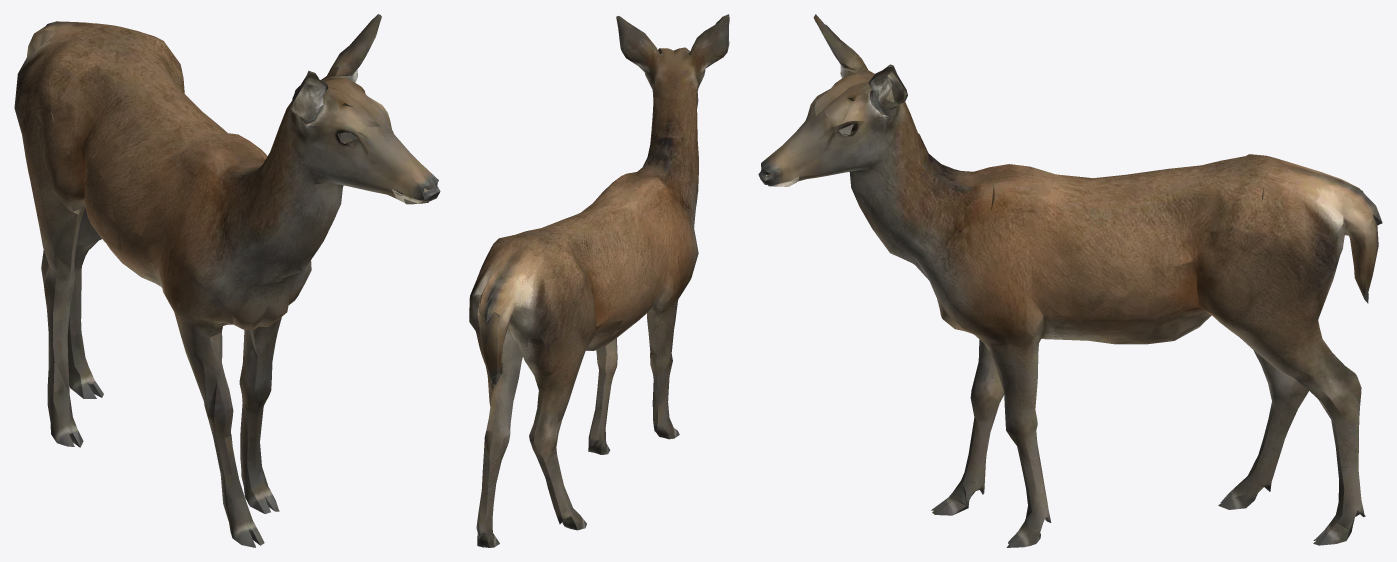
File: deer-hind.glb
3 views of the same model, side by side, from view 1: azimuth 30°, elevation 25°; view 2: azimuth 150°, elevation 25°; view 3: azimuth 270°, elevation 25° (orthographic). The views are drawn at different scales.
Parts seen in each view (by area): view 1: deer-hind; view 2: deer-hind; view 3: deer-hind.
Boxes of the visible parts, box(x1,y1,x2,y2) form: deer-hind: box(14, 14, 440, 547); deer-hind: box(469, 14, 729, 547); deer-hind: box(758, 14, 1382, 547).
Size of the model in its own units: 0.6129 by 2 by 2.25.
Materials: 1 (1 with a texture image).
